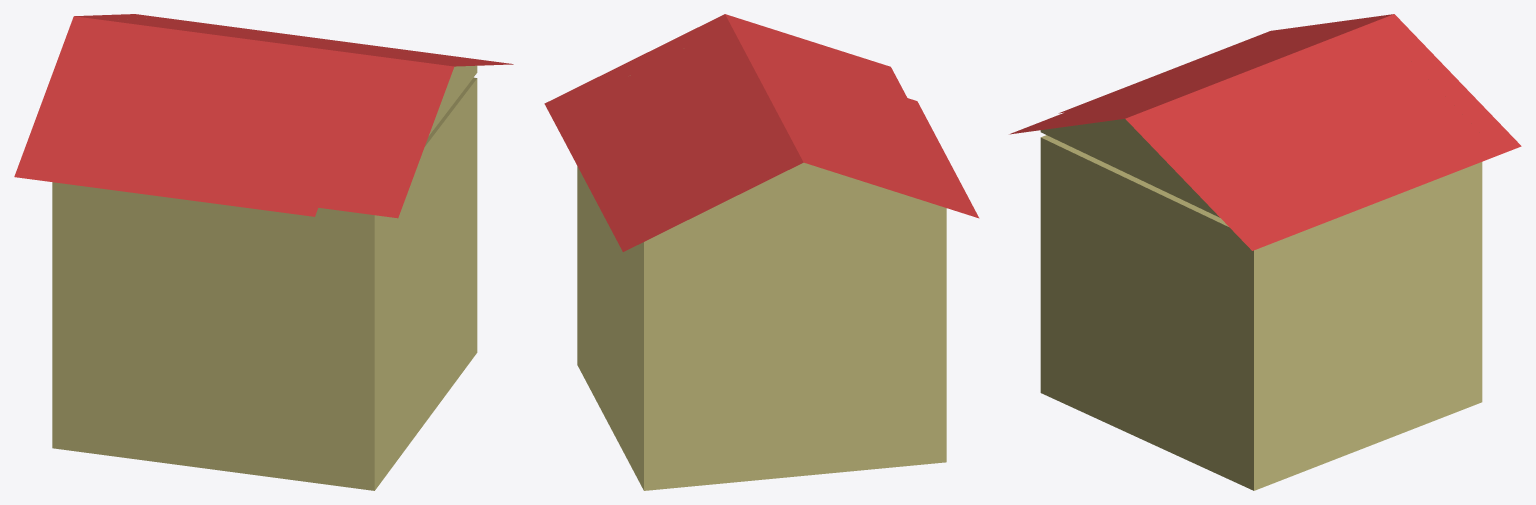
The picture shows the model from 3 angles, left to right: view 1: azimuth 30°, elevation 25°; view 2: azimuth 150°, elevation 25°; view 3: azimuth 270°, elevation 25°; orthographic projection. The views are drawn at different scales.
Bounding box in the file's own units: 9.28 × 9.15 × 6.49.
